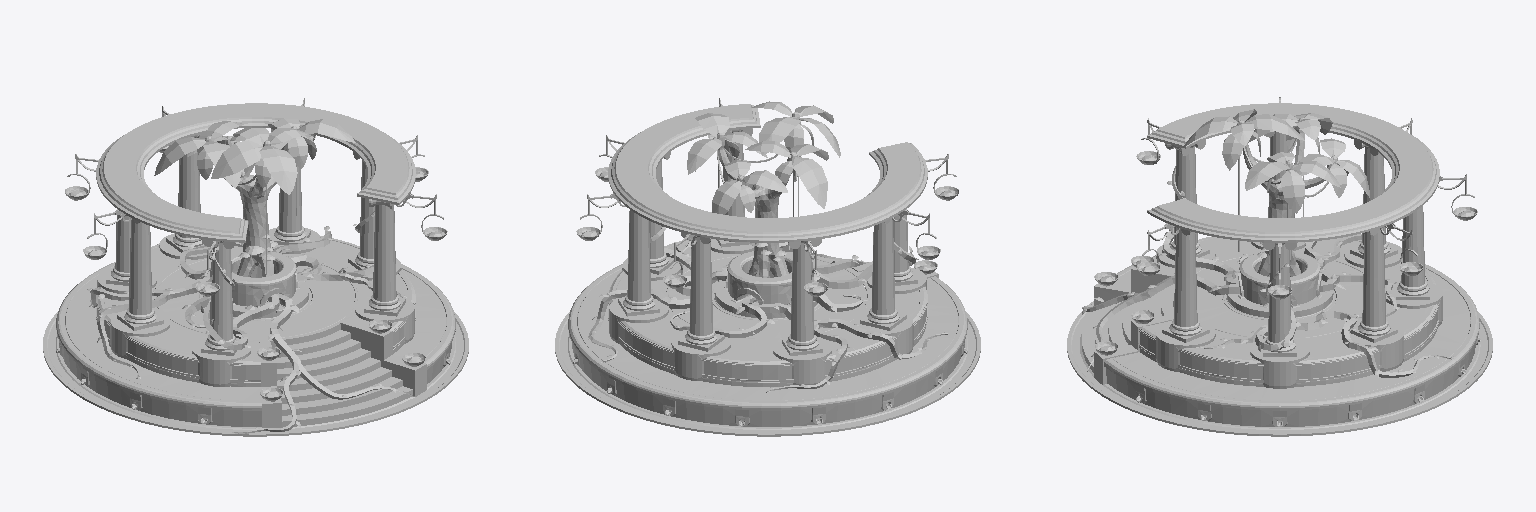
The model's file is Temple.obj.
3 views of the same model, side by side, from view 1: azimuth 30°, elevation 25°; view 2: azimuth 150°, elevation 25°; view 3: azimuth 270°, elevation 25° (orthographic).
Visible parts, largest first — view 1: default, _1; view 2: default, _1; view 3: default, _1.
Boxes of the visible parts, <box> form: default: <box>43,98,468,436</box>; _1: <box>87,118,414,433</box>; default: <box>555,98,980,436</box>; _1: <box>588,101,947,392</box>; default: <box>1067,97,1492,436</box>; _1: <box>1082,109,1454,377</box>.
Size of the model in its own units: 1024 by 722 by 1024.